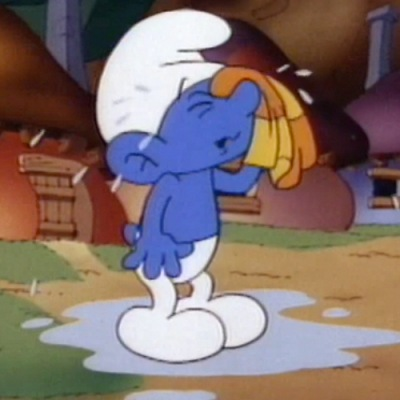smurf: (94, 9, 269, 363)
